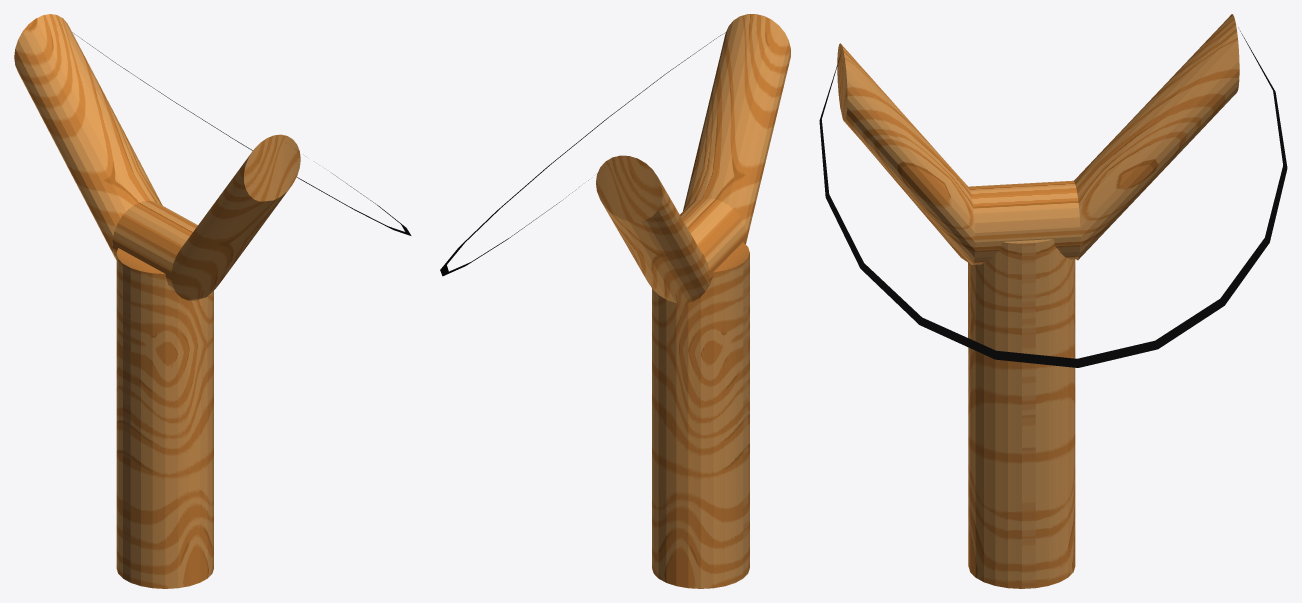
File: slingshot2.gltf
3 renders of one model, left to right at view 1: azimuth 30°, elevation 25°; view 2: azimuth 150°, elevation 25°; view 3: azimuth 270°, elevation 25°, orthographic. The views are drawn at different scales.
Bounding box in the file's own units: 1.83 × 3.12 × 2.47.
2 materials, 1 textured.
